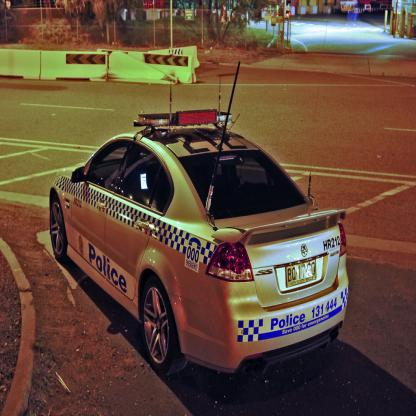Car: (47, 62, 354, 390)
